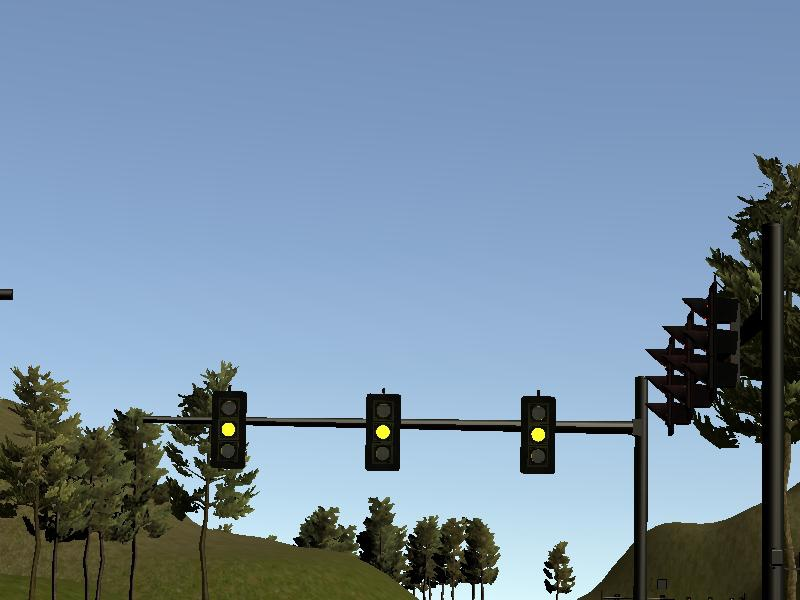Yellow: (366, 395, 400, 471)
